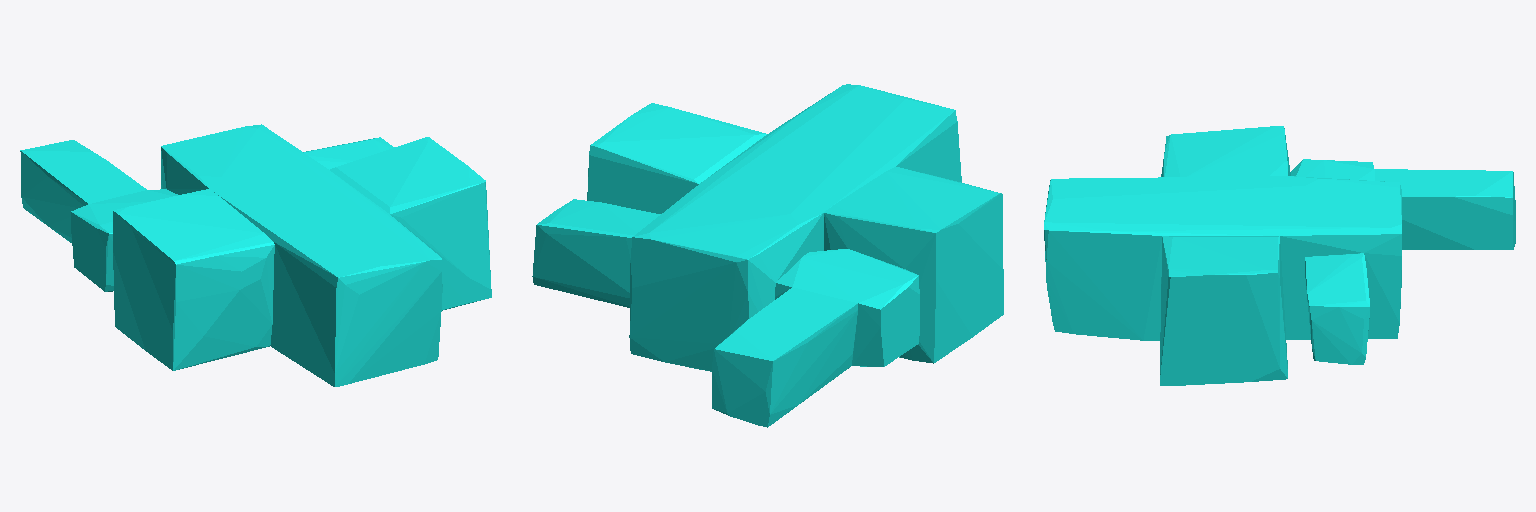
URDF robot description (blob974):
<robot name="blob974">
  <link name="random_obj_974">
    <contact>
      <lateral_friction value="1.0"/>
      <rolling_friction value="0.0"/>
      <inertia_scaling value="3.0"/>
      <contact_cfm value="0.0"/>
      <contact_erp value="1.0"/>
    </contact>
    <inertial>
      <origin rpy="0 0 0" xyz="0 0 0"/>
      <mass value="0.1"/>
      <inertia ixx="1" ixy="0" ixz="0" iyy="1" iyz="0" izz="0"/>
    </inertial>
    <visual>
      <origin rpy="0 0 0" xyz="0 0 0"/>
      <geometry>
        <mesh filename="974.obj" scale="0.015 0.015 0.015"/>
      </geometry>
      <material name="blockmat">
        <color rgba="0.17 0.99 0.96 1"/>
      </material>
    </visual>
    <collision>
      <origin rpy="0 0 0" xyz="0 0 0"/>
      <geometry>
        <mesh filename="974.obj" scale="0.015 0.015 0.015"/>
      </geometry>
    </collision>
  </link>
</robot>

--- Facts derived from the render (not from the file) ---
Views: 3 orthographic renders of the robot side by side, from view 1: azimuth 30°, elevation 25°; view 2: azimuth 150°, elevation 25°; view 3: azimuth 270°, elevation 25°.
Model blob974 with 1 links and 0 joints (none), rooted at random_obj_974, posed every joint at zero.
Links seen in each view (by area): view 1: random_obj_974; view 2: random_obj_974; view 3: random_obj_974.
Boxes of the visible links, x1=… form: random_obj_974: x1=20, y1=124, x2=491, y2=386; random_obj_974: x1=532, y1=84, x2=1003, y2=427; random_obj_974: x1=1044, y1=126, x2=1515, y2=385.
Bounding box of the posed robot: 0.0918 × 0.1224 × 0.0333 m (x, y, z).
Meshes: 1 distinct files referenced, 1 mesh visuals loaded (1 OBJ).